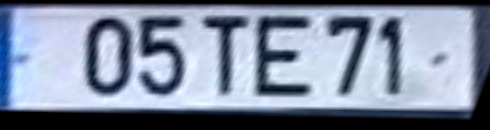0: (80, 16, 136, 99)
1: (375, 14, 407, 100)
5: (135, 15, 192, 98)
7: (325, 14, 379, 100)
E: (250, 14, 315, 100)
T: (200, 14, 254, 101)
